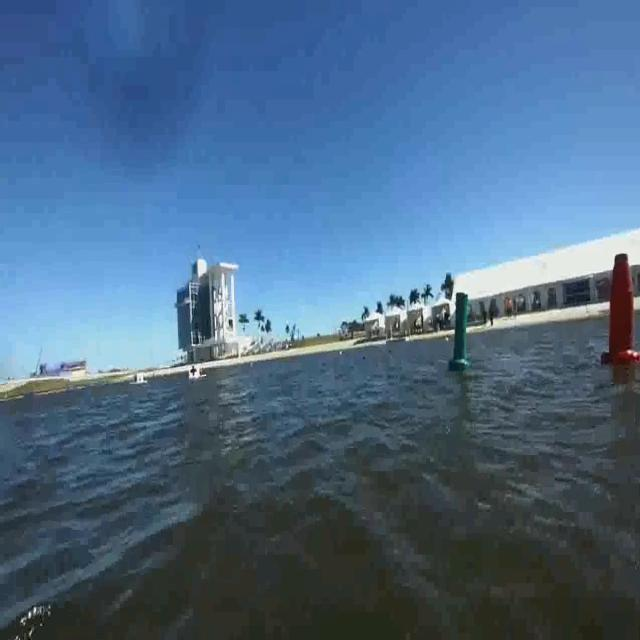green-column-buoy: (450, 291, 472, 372)
red-column-buoy: (603, 252, 639, 367)
